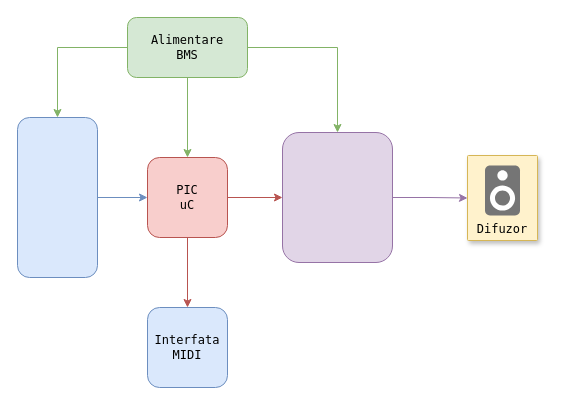
This 561x405 diagram has some shape labels left out. Each missing label, with the centre of its shape:
"Amplificator" goes at (x=337, y=197).
"Clape" goes at (x=57, y=197).
